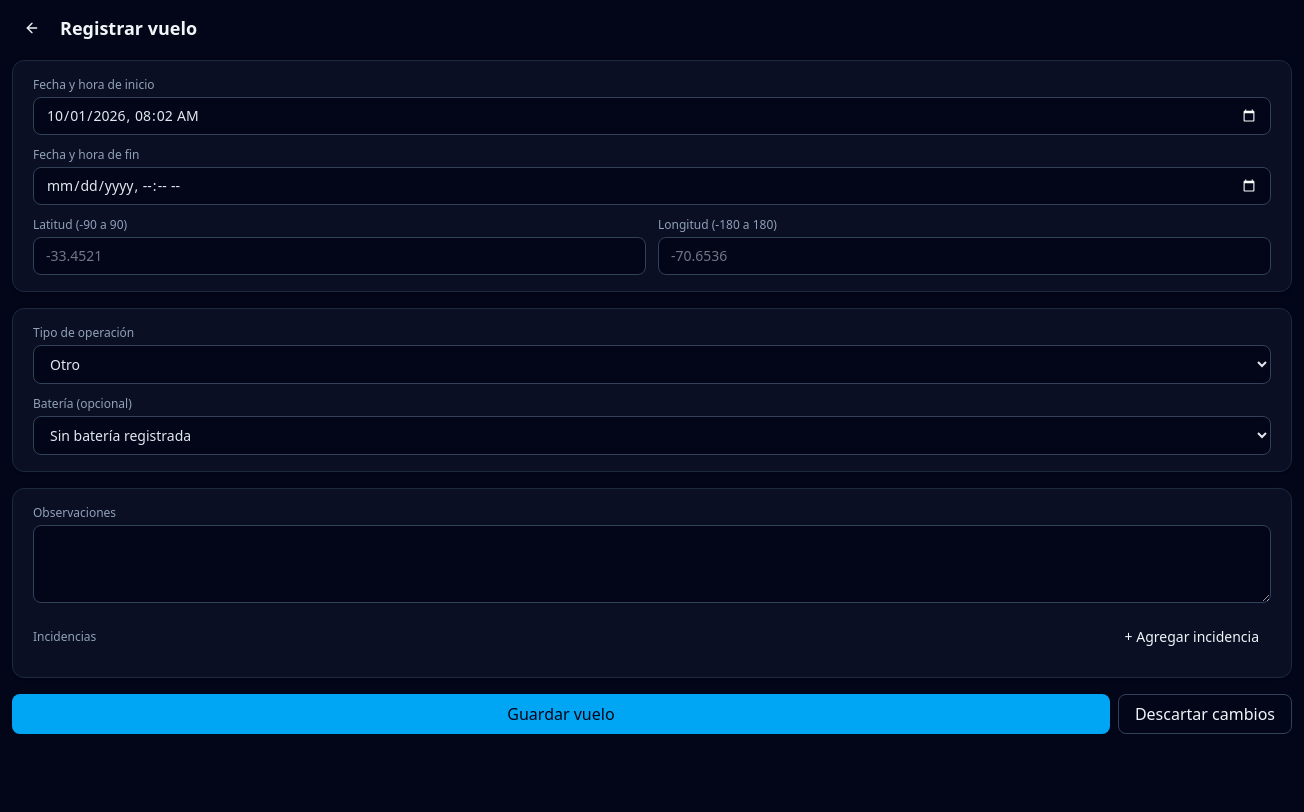
Test: FlightForm › rejects an end time before the start time
Type "-33.45" into the field labelled "Latitud (-90 a 90)" at [340, 256], box 33,237 -> 646,275
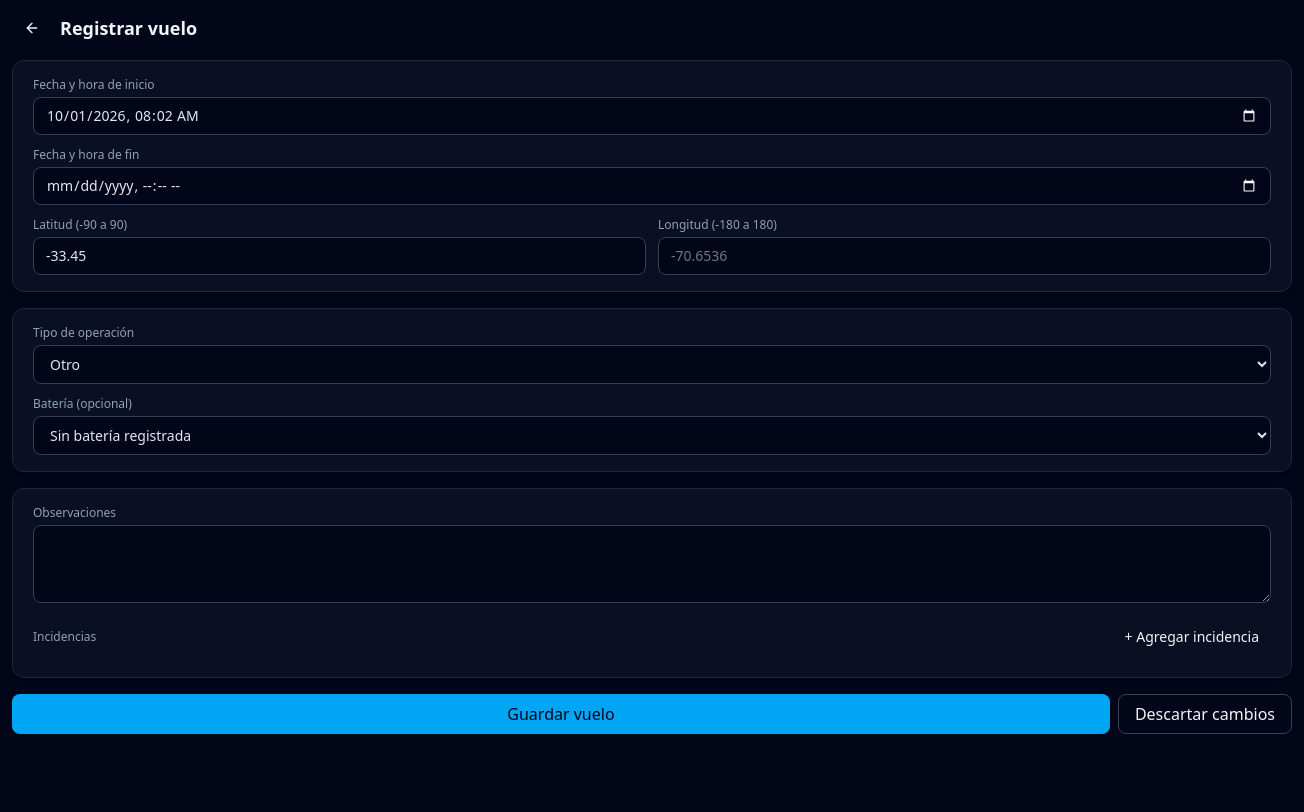
Type "-70.66" into the field labelled "Longitud (-180 a 180)" at [964, 256], box 658,237 -> 1271,275
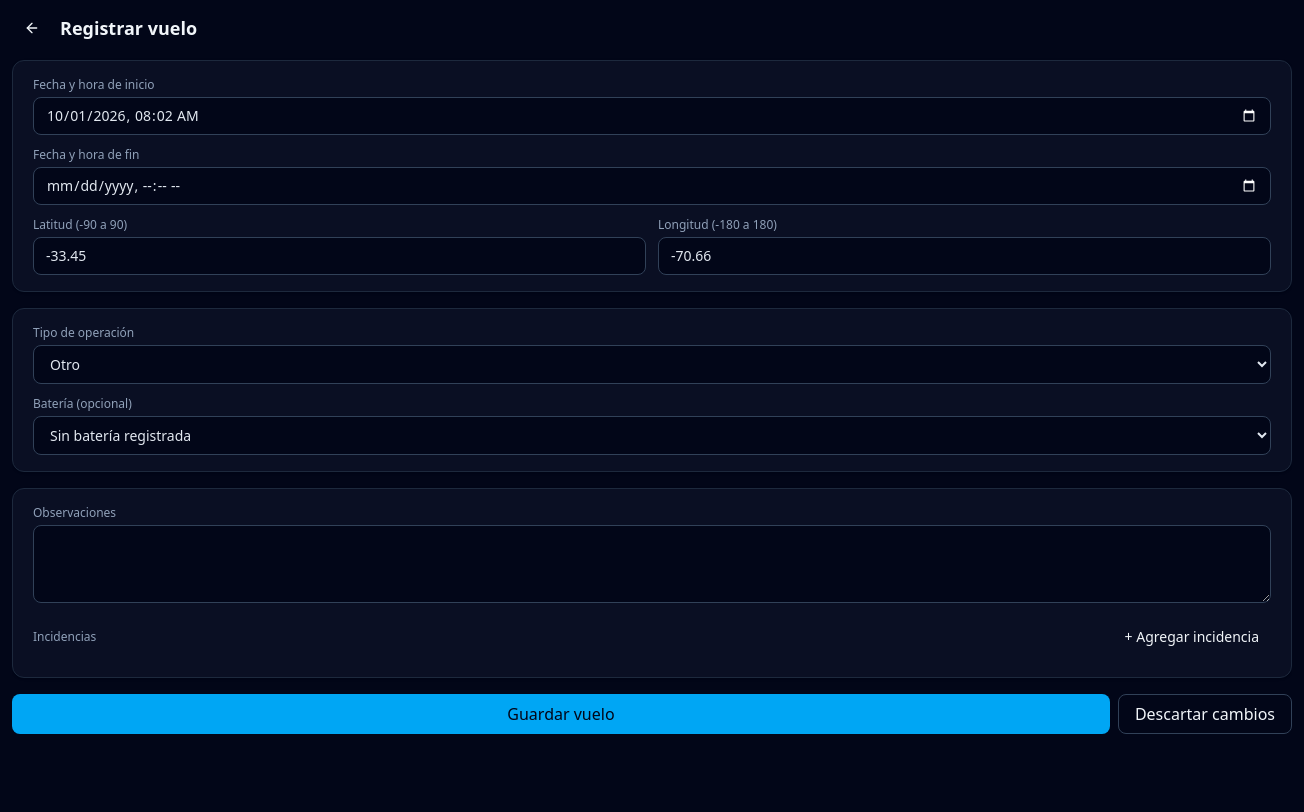
Type "2020-01-01T00:00" into the field labelled "Fecha y hora de fin" at [652, 186], box 33,167 -> 1271,205
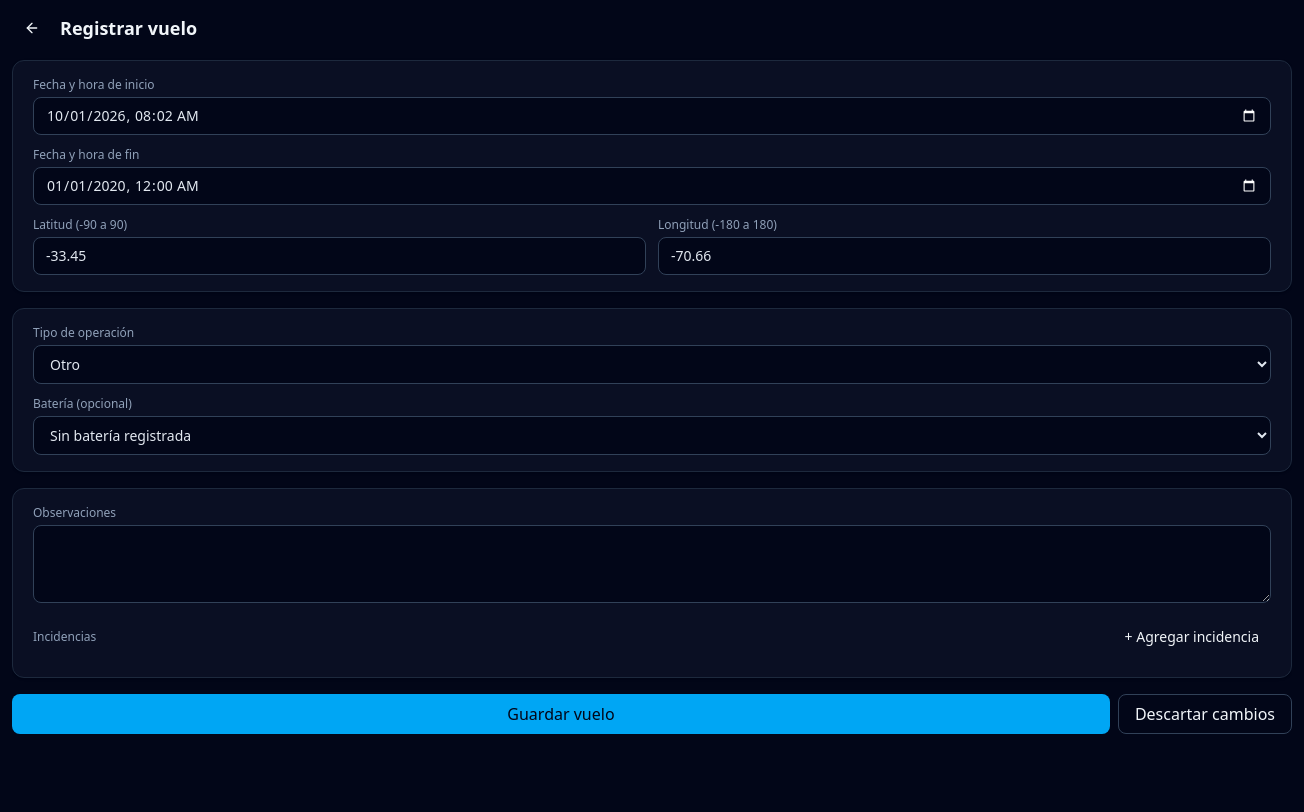
Click the button "Guardar vuelo" at [561, 714], box 12,694 -> 1110,734
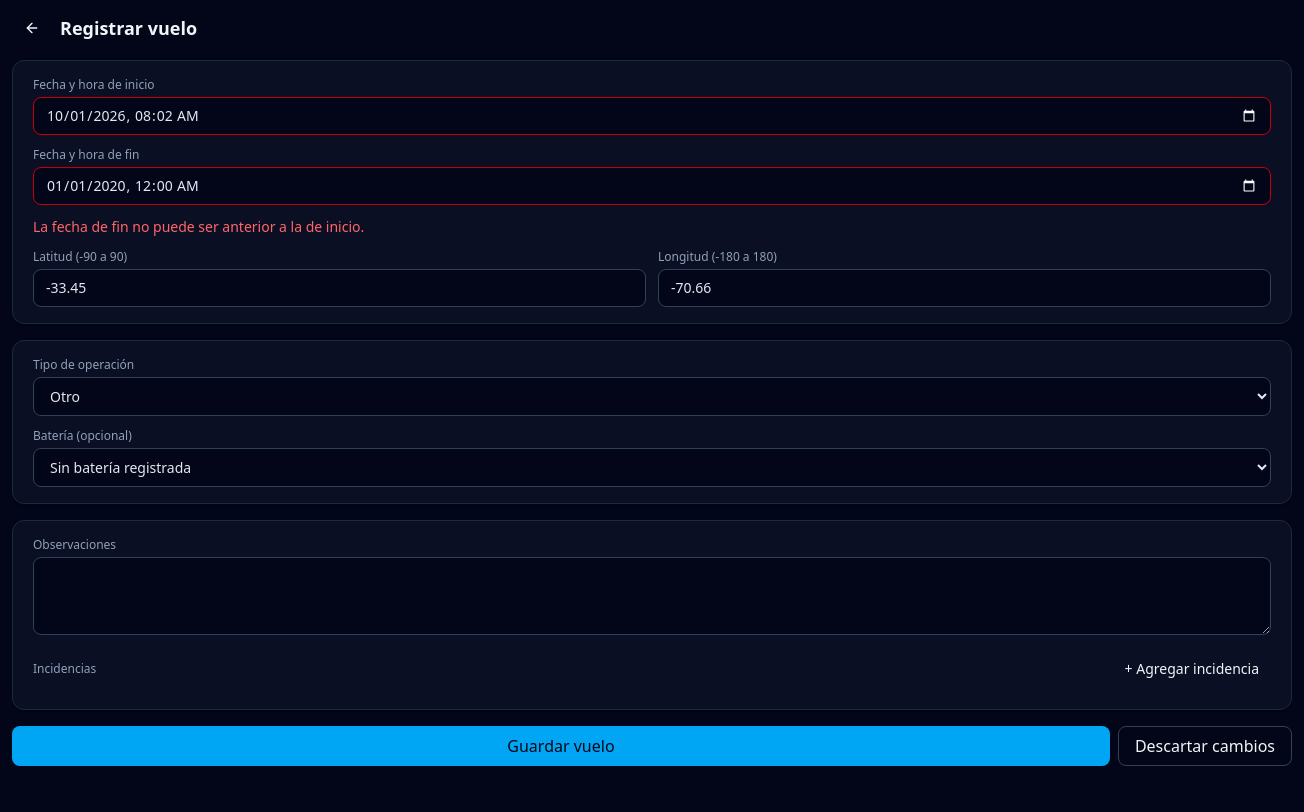
Check: the text "La fecha de fin no puede ser anterior a la de inicio." is shown, box 33,217 -> 364,236
